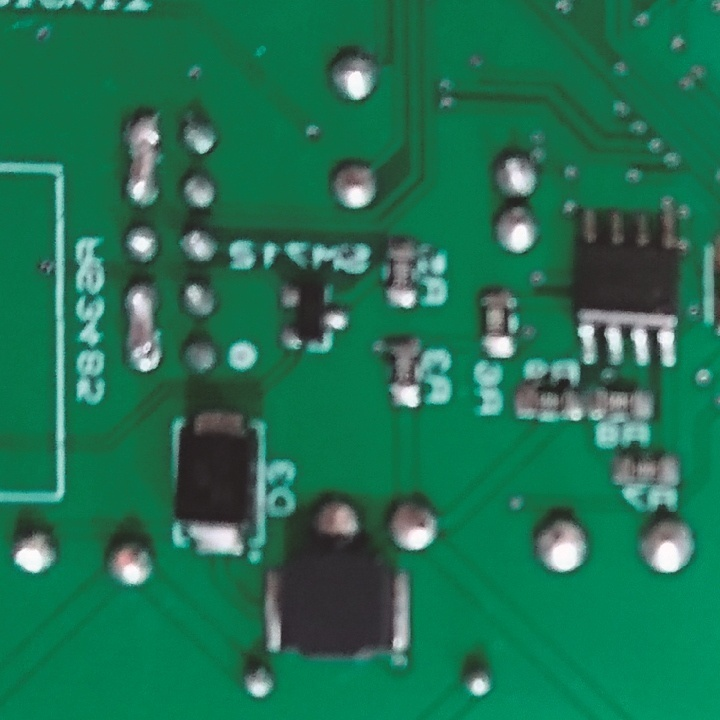P: (121, 109, 160, 206), (123, 276, 158, 375)
